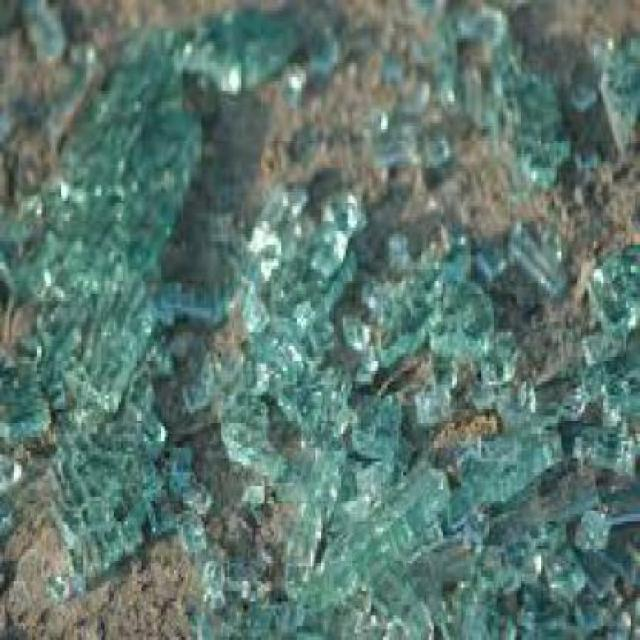kaca: (42, 25, 206, 308), (49, 392, 172, 598), (357, 238, 457, 371), (457, 528, 566, 637), (37, 302, 151, 398), (175, 0, 297, 88), (455, 420, 560, 522), (362, 452, 448, 568), (274, 442, 340, 590), (276, 239, 364, 346), (429, 24, 500, 150), (285, 192, 369, 291), (238, 560, 342, 637), (564, 35, 638, 143), (223, 378, 288, 494), (477, 217, 571, 297), (499, 66, 563, 182), (428, 241, 492, 357), (215, 195, 292, 291), (460, 3, 525, 105), (314, 515, 375, 620), (338, 574, 438, 637), (578, 319, 638, 423), (343, 384, 420, 464), (542, 552, 610, 637), (570, 409, 638, 489), (196, 549, 256, 637), (425, 538, 477, 637), (183, 322, 242, 409), (466, 368, 540, 437), (364, 109, 450, 168), (383, 32, 445, 110), (295, 368, 357, 444), (588, 244, 638, 336), (0, 354, 49, 441), (228, 263, 278, 346), (0, 192, 37, 297), (300, 0, 343, 88), (270, 308, 324, 370), (526, 374, 580, 434), (412, 354, 457, 420), (462, 329, 522, 378), (174, 437, 209, 514), (18, 0, 64, 52), (174, 497, 206, 566), (603, 577, 637, 637), (234, 472, 274, 517), (154, 280, 206, 314), (0, 91, 32, 140), (576, 500, 604, 542), (151, 322, 169, 364), (0, 451, 14, 486)
